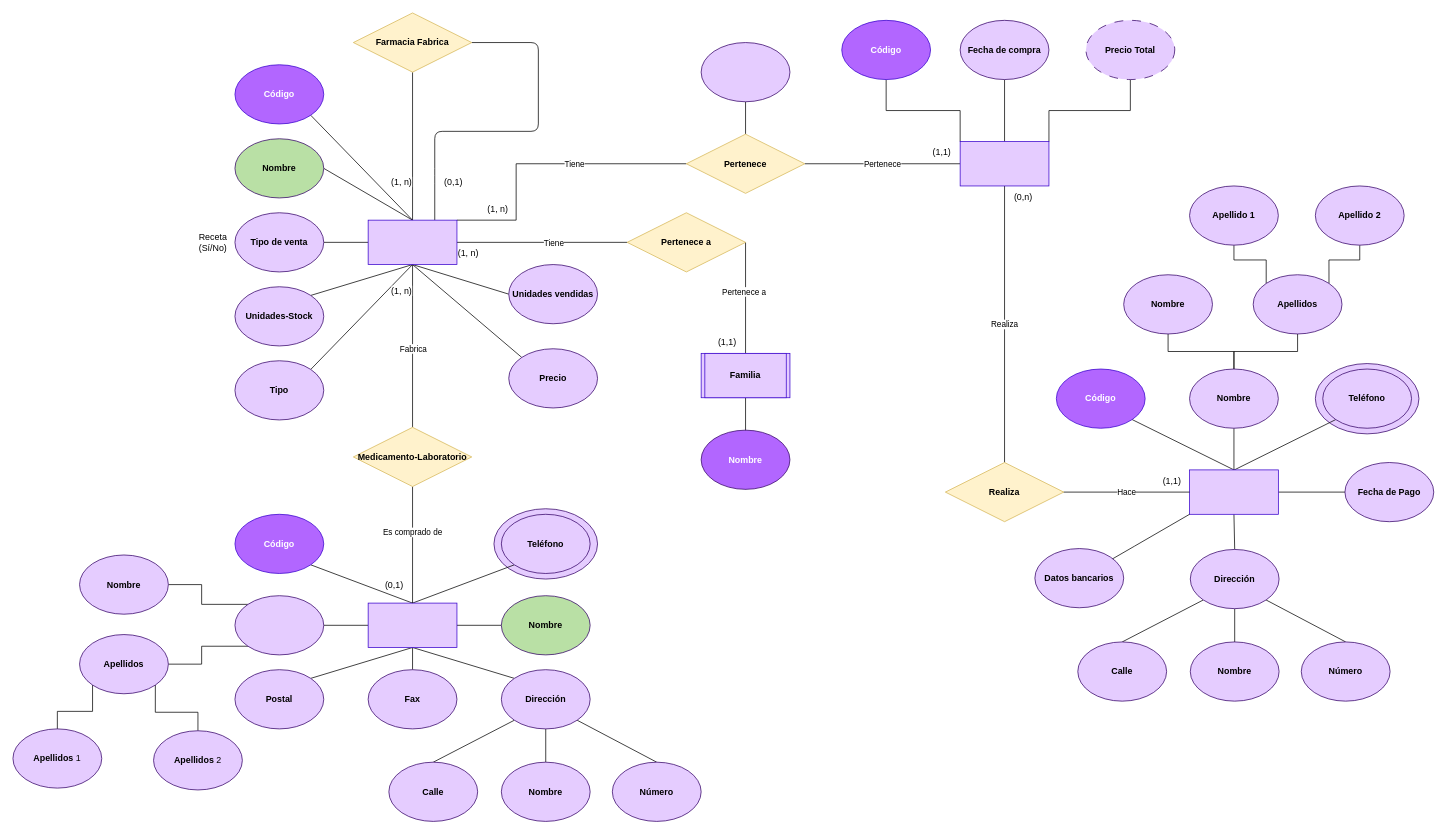
Image size: 1447x835. Some labels were removed from this diagram. The shapes that lost their labels are listed below. From the top down, each one's centre as x and y in pixels, then its label:
At point 745,72: "Cantidad".
At point 1004,163: "Pedido".
At point 412,242: "Medicamento".
At point 1233,491: "Cliente con crédito".
At point 279,625: "Nombre-persona de contacto".
At point 412,625: "Laboratorio".
